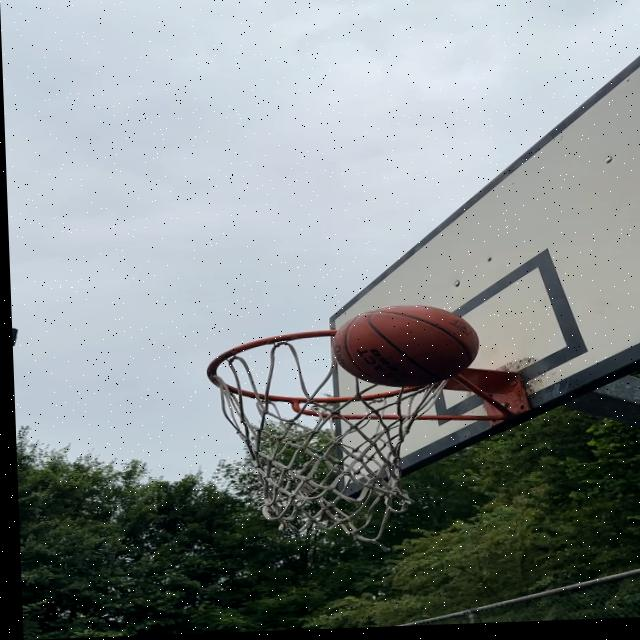rebound_hit: (325, 302, 480, 388)
